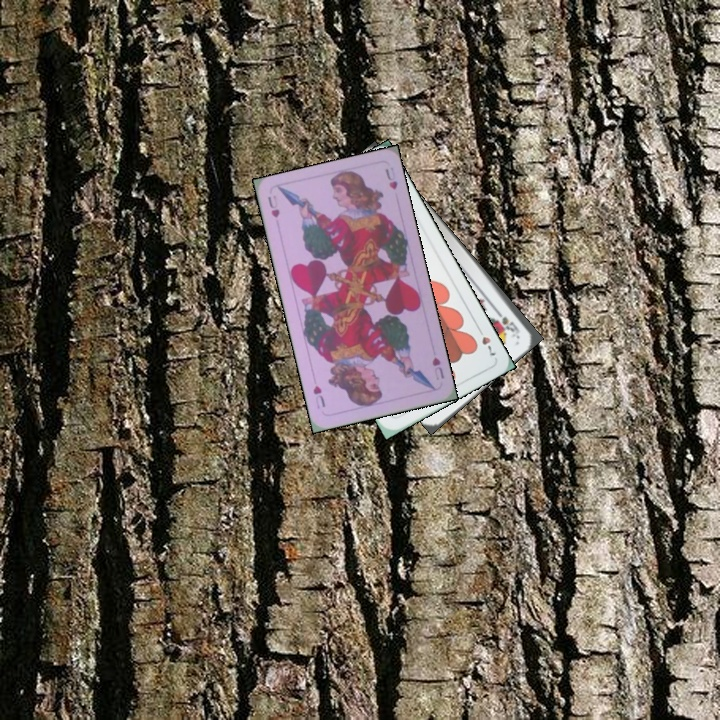H7: (473, 323, 499, 358)
HU: (428, 353, 447, 383), (264, 191, 282, 220)
SK: (491, 305, 523, 340)
